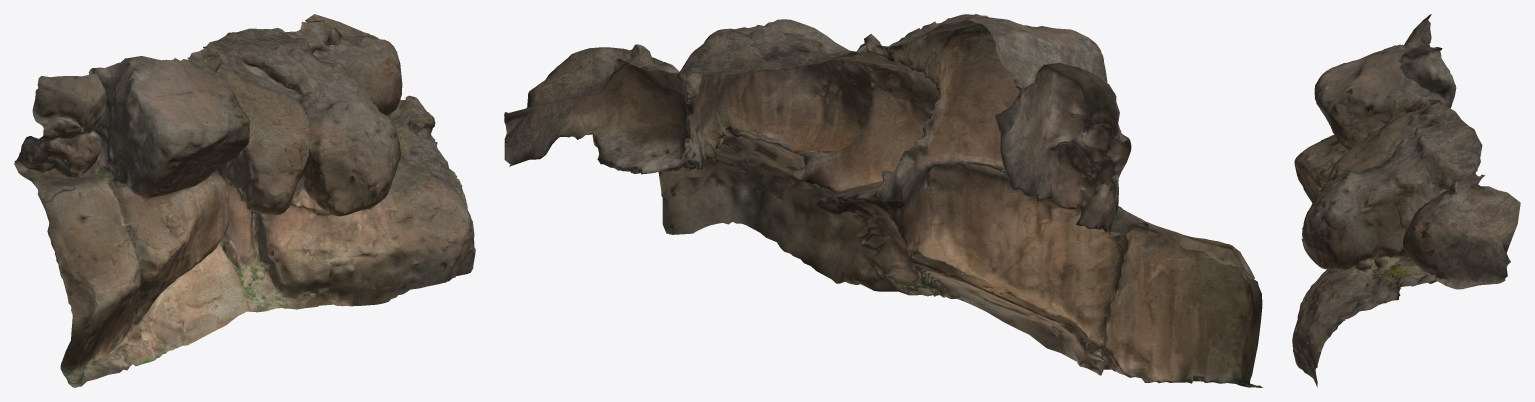
File: ph-namaqualand-cliff-01.glb
The picture shows the model from 3 angles, left to right: view 1: azimuth 30°, elevation 25°; view 2: azimuth 150°, elevation 25°; view 3: azimuth 270°, elevation 25°; orthographic projection. The views are drawn at different scales.
Parts seen in each view (by area): view 1: drone_rock_01; view 2: drone_rock_01; view 3: drone_rock_01.
Boxes of the visible parts, box(x1,y1,x2,y2) form: drone_rock_01: box(14, 14, 475, 387); drone_rock_01: box(504, 14, 1262, 387); drone_rock_01: box(1292, 14, 1520, 387).
Size of the model in its own units: 10.85 by 6.5 by 5.75.
1 material, 1 textured.
